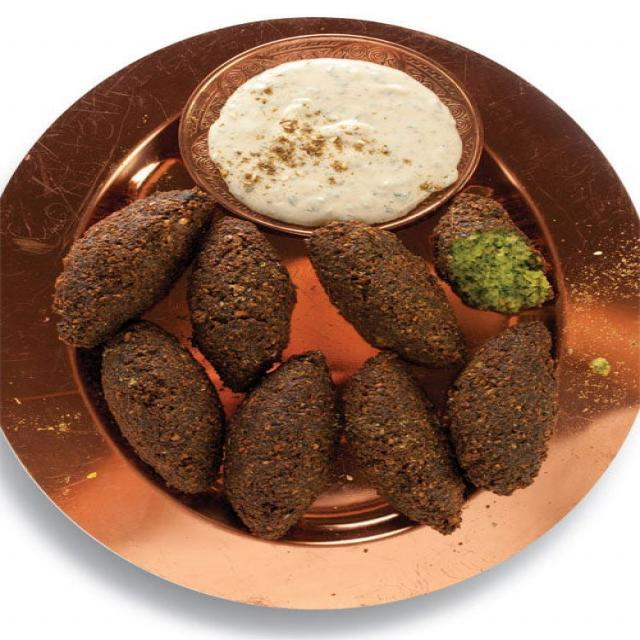flafel: (344, 354, 462, 534), (97, 324, 219, 498), (454, 317, 566, 499), (309, 224, 459, 359), (233, 349, 333, 538), (441, 188, 557, 318), (203, 220, 293, 386)
